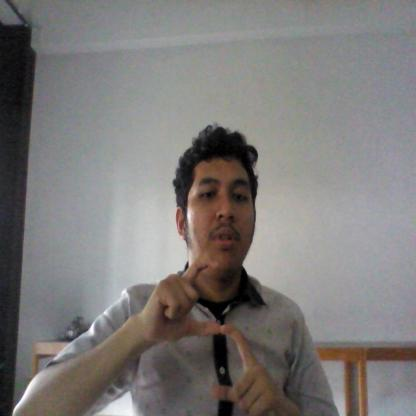S: (145, 253, 268, 416)
